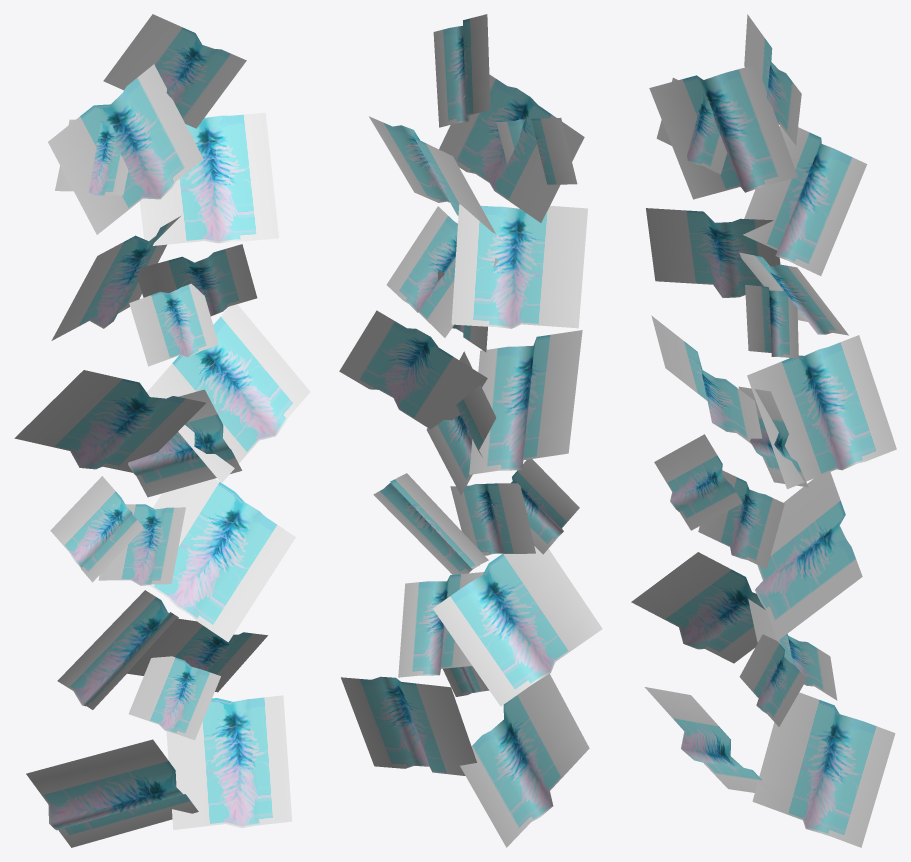
Rendered from feathers.fbx.
The picture shows the model from 3 angles, left to right: view 1: azimuth 30°, elevation 25°; view 2: azimuth 150°, elevation 25°; view 3: azimuth 330°, elevation 25°; orthographic projection. The views are drawn at different scales.
Visible parts, largest first — view 1: pPlane16, pPlane10, pPlane1, pPlane2, pPlane7, pPlane18, pPlane9, pPlane3, pPlane14, pPlane5, pPlane13, pPlane15 (+6 smaller); view 2: pPlane5, pPlane14, pPlane18, pPlane9, pPlane16, pPlane7, pPlane2, pPlane8, pPlane3, pPlane17, pPlane11, pPlane10 (+6 smaller); view 3: pPlane16, pPlane7, pPlane2, pPlane10, pPlane1, pPlane14, pPlane5, pPlane13, pPlane9, pPlane18, pPlane11, pPlane6 (+6 smaller).
Boxes of the visible parts, bbox=[...] form: pPlane16: bbox=[166, 695, 292, 829]; pPlane10: bbox=[149, 478, 295, 642]; pPlane1: bbox=[139, 112, 278, 245]; pPlane2: bbox=[48, 64, 203, 234]; pPlane7: bbox=[147, 304, 310, 483]; pPlane18: bbox=[26, 739, 198, 847]; pPlane9: bbox=[14, 370, 206, 472]; pPlane3: bbox=[103, 14, 246, 128]; pPlane14: bbox=[57, 590, 178, 709]; pPlane5: bbox=[51, 216, 180, 340]; pPlane13: bbox=[50, 476, 143, 582]; pPlane15: bbox=[128, 656, 220, 740]; pPlane5: bbox=[451, 204, 587, 328]; pPlane14: bbox=[432, 546, 602, 706]; pPlane18: bbox=[460, 673, 589, 847]; pPlane9: bbox=[469, 330, 582, 474]; pPlane16: bbox=[341, 676, 476, 775]; pPlane7: bbox=[339, 310, 487, 429]; pPlane2: bbox=[439, 74, 584, 222]; pPlane8: bbox=[386, 206, 498, 337]; pPlane3: bbox=[433, 14, 490, 127]; pPlane17: bbox=[398, 572, 483, 677]; pPlane11: bbox=[450, 483, 535, 555]; pPlane10: bbox=[373, 473, 488, 574]; pPlane16: bbox=[752, 692, 895, 847]; pPlane7: bbox=[747, 335, 896, 489]; pPlane2: bbox=[649, 64, 797, 199]; pPlane10: bbox=[755, 472, 862, 640]; pPlane1: bbox=[743, 125, 867, 275]; pPlane14: bbox=[631, 552, 765, 663]; pPlane5: bbox=[646, 208, 780, 297]; pPlane13: bbox=[654, 434, 742, 530]; pPlane9: bbox=[651, 315, 762, 443]; pPlane18: bbox=[644, 687, 777, 796]; pPlane11: bbox=[698, 467, 784, 568]; pPlane6: bbox=[745, 285, 798, 358].
Bounding box in the file's own units: 2.5 × 7.34 × 0.9464.
